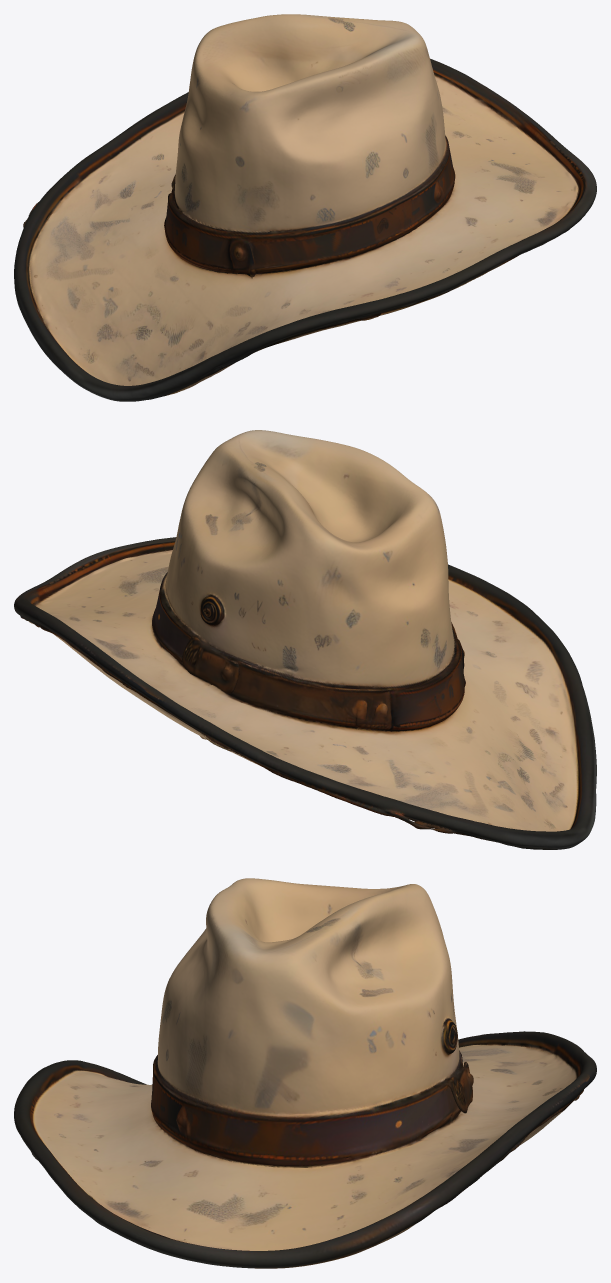
Rendered from kid_hat_mesh.glb.
3 renders of one model, top to bottom at view 1: azimuth 30°, elevation 25°; view 2: azimuth 150°, elevation 25°; view 3: azimuth 270°, elevation 25°, orthographic. The views are drawn at different scales.
Parts seen in each view (by area): view 1: tripo_node_c80ee9a9-8fe5-4992-a0af-5427ecddc26a; view 2: tripo_node_c80ee9a9-8fe5-4992-a0af-5427ecddc26a; view 3: tripo_node_c80ee9a9-8fe5-4992-a0af-5427ecddc26a.
Boxes of the visible parts, x1,y1,x2,y2 form: tripo_node_c80ee9a9-8fe5-4992-a0af-5427ecddc26a: [14, 14, 596, 401]; tripo_node_c80ee9a9-8fe5-4992-a0af-5427ecddc26a: [14, 430, 596, 849]; tripo_node_c80ee9a9-8fe5-4992-a0af-5427ecddc26a: [14, 878, 596, 1268].
Bounding box in the file's own units: 1 × 0.5662 × 0.8176.
Materials: 1 (1 with a texture image).
